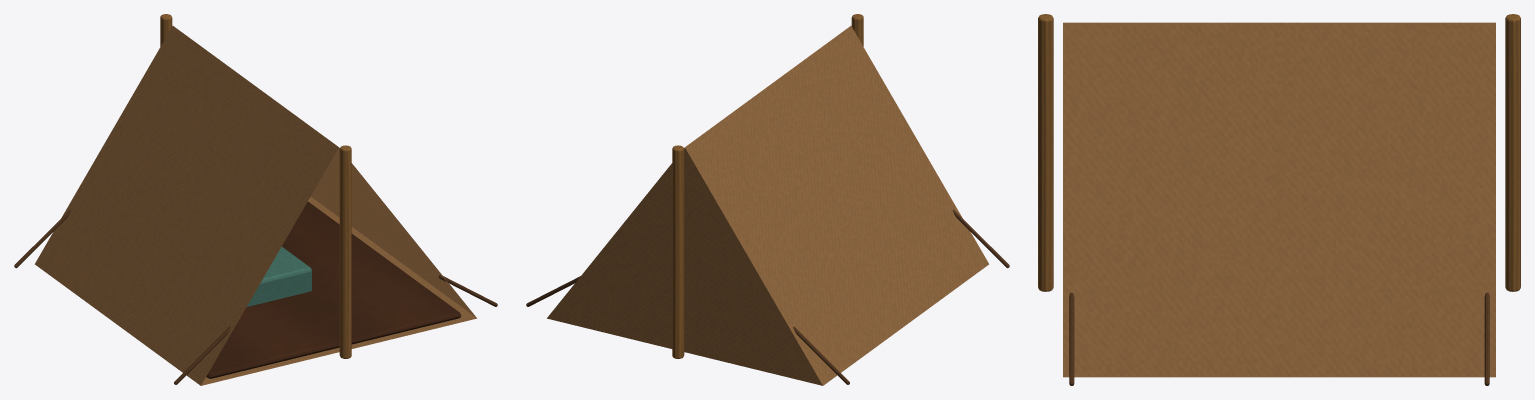
File: tent.glb
The picture shows the model from 3 angles, left to right: view 1: azimuth 30°, elevation 25°; view 2: azimuth 150°, elevation 25°; view 3: azimuth 270°, elevation 25°; orthographic projection. The views are drawn at different scales.
Visible parts, largest first — view 1: canvas_tent, groundsheet, tent_pole, bedroll; view 2: canvas_tent, tent_pole.001; view 3: canvas_tent, tent_pole, tent_pole.001, guyrope.002, guyrope.003.
Part boxes in pixels (x1,y1,x2,y2): canvas_tent: (35, 26, 476, 385); groundsheet: (206, 201, 460, 378); tent_pole: (339, 145, 351, 358); bedroll: (247, 246, 311, 306); canvas_tent: (547, 26, 988, 385); tent_pole.001: (672, 145, 684, 358); canvas_tent: (1063, 22, 1495, 377); tent_pole: (1038, 14, 1053, 291); tent_pole.001: (1505, 14, 1520, 291); guyrope.002: (1069, 292, 1074, 385); guyrope.003: (1484, 292, 1489, 385).
Bounding box in the file's own units: 2.81 × 1.74 × 2.79.
Materials: 5 (5 with a texture image).
